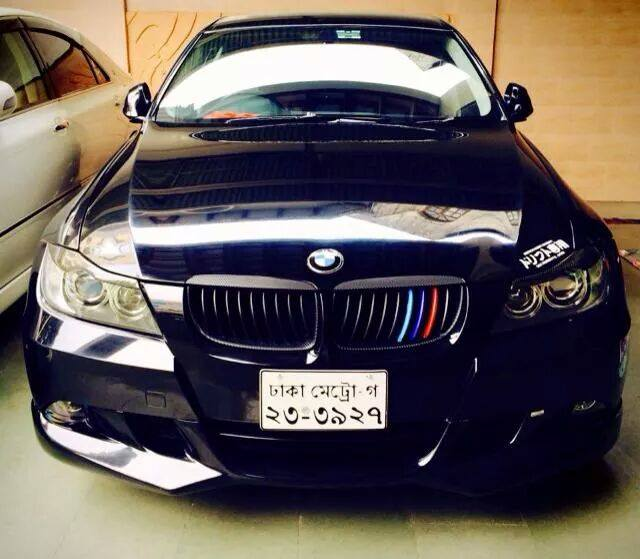registration_plate: (259, 367, 389, 430)
